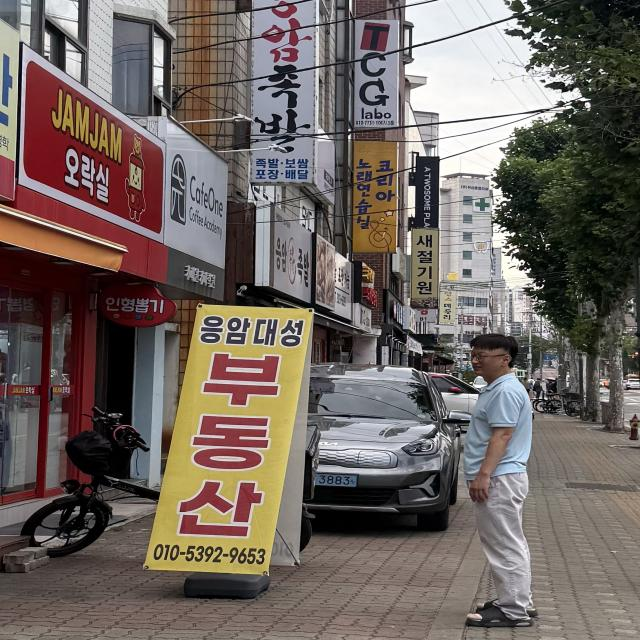bicycle: (19, 401, 272, 576)
car: (187, 353, 477, 542)
